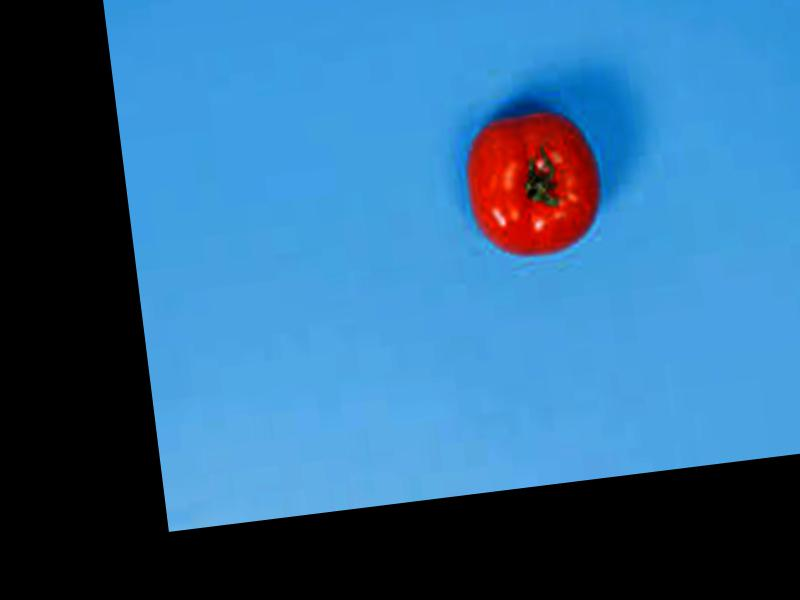Tomato: (461, 105, 612, 264)
